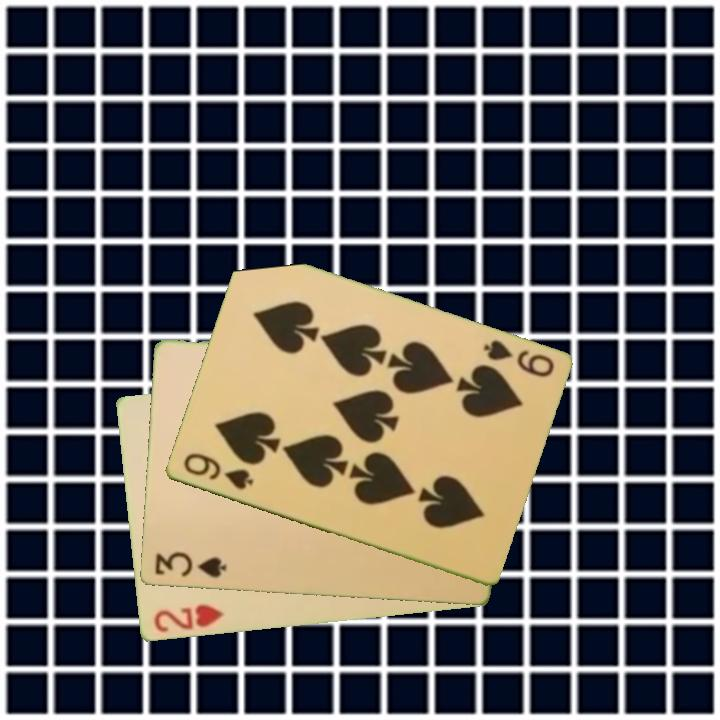2h: (150, 601, 227, 636)
3s: (151, 549, 229, 581)
9s: (479, 336, 557, 381), (179, 449, 256, 493)
